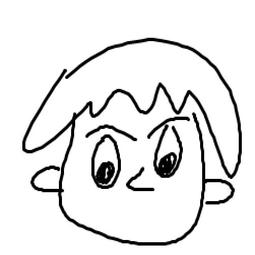ear: (29, 164, 65, 195), (204, 178, 239, 208)
eye: (83, 133, 124, 190), (149, 126, 185, 182)
eyebrow: (85, 123, 137, 143)
frowning_eyebrow: (145, 115, 191, 141)
nose: (125, 166, 154, 197)
